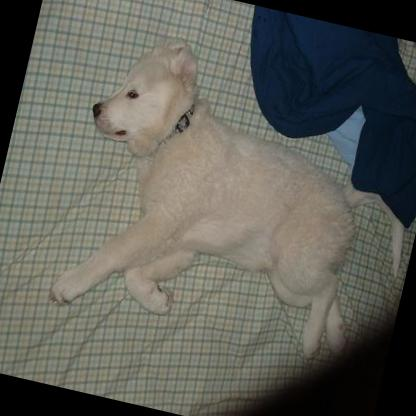Great_Pyrenees: (45, 18, 412, 374)
